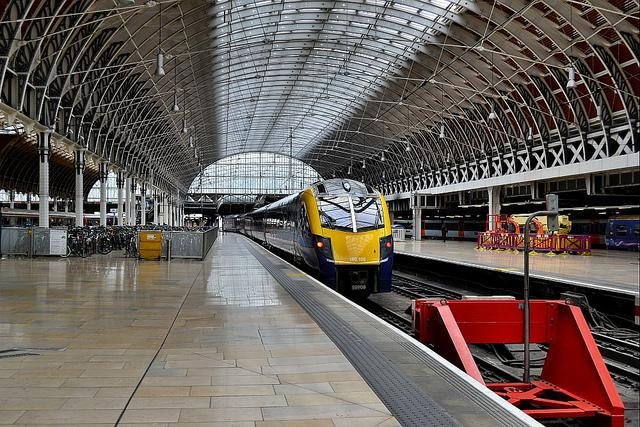Train: (223, 178, 395, 302)
